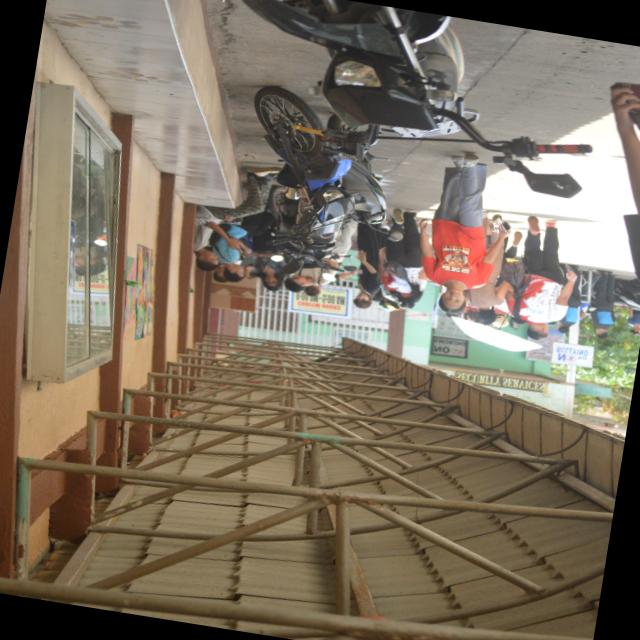person: (420, 152, 507, 313), (194, 167, 279, 270), (519, 216, 577, 339), (612, 86, 639, 278), (379, 208, 427, 308), (211, 210, 274, 281), (466, 244, 513, 323), (354, 222, 386, 308), (284, 257, 338, 292), (559, 265, 584, 333), (591, 269, 615, 338), (331, 220, 356, 263), (628, 307, 639, 335)
